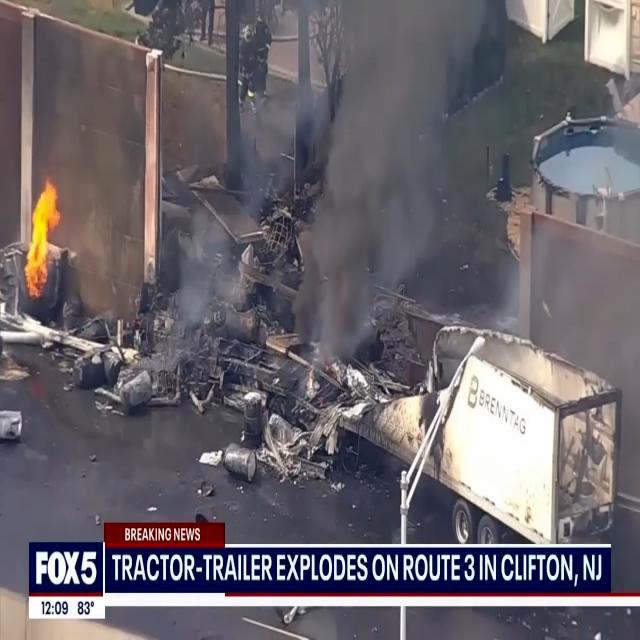fire: (20, 173, 66, 299)
